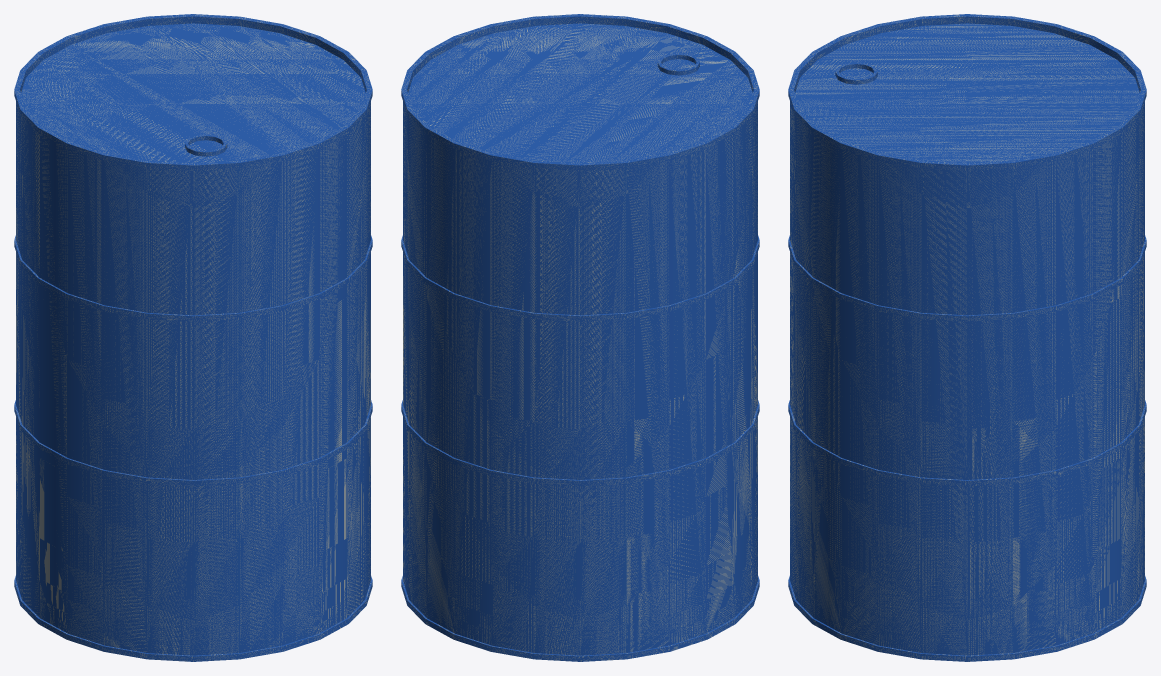
File: barrel.dae
3 renders of one model, left to right at view 1: azimuth 30°, elevation 25°; view 2: azimuth 150°, elevation 25°; view 3: azimuth 270°, elevation 25°, orthographic.
Visible parts, largest first — view 1: SketchUp (×6); view 2: SketchUp (×6); view 3: SketchUp (×6).
Part boxes in pixels (box(x1,y1,x2,y2)): SketchUp (×6): box(14, 14, 372, 661); SketchUp (×6): box(401, 14, 759, 661); SketchUp (×6): box(788, 14, 1146, 661).
Bounding box in the file's own units: 23.31 × 23.31 × 35.62.
